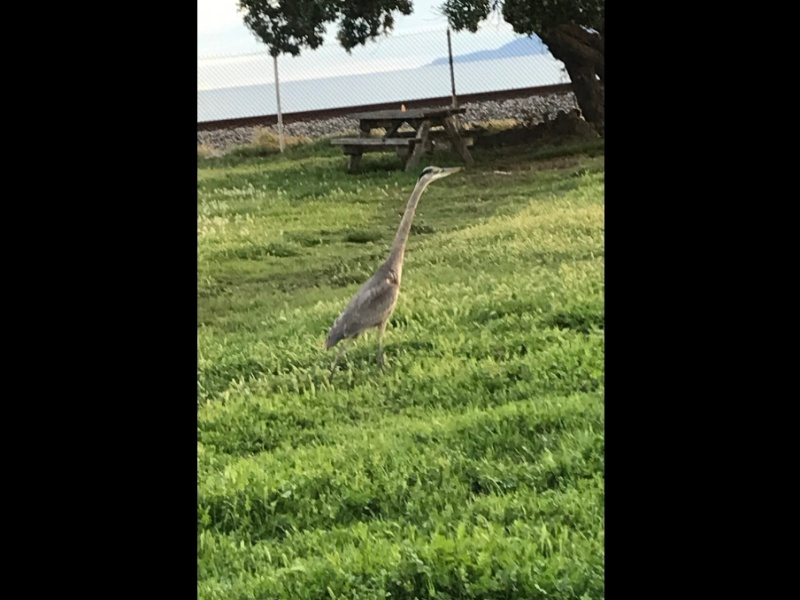heron: (323, 163, 463, 363)
